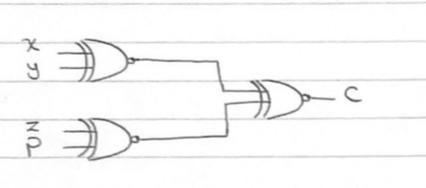XNOR: (68, 32, 144, 90), (75, 111, 144, 164), (247, 71, 314, 125)
